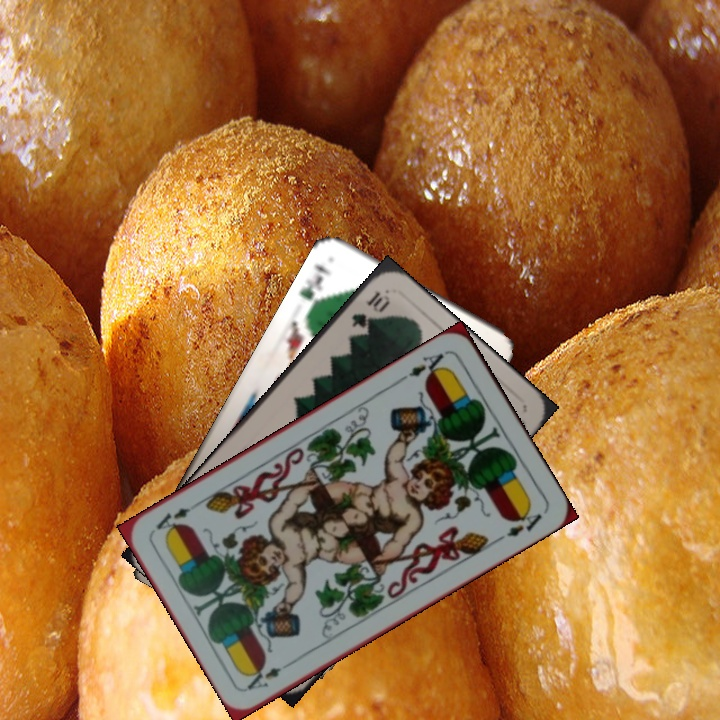EA: (242, 657, 297, 693), (396, 348, 449, 384)
G10: (347, 287, 393, 331)
GK: (295, 260, 334, 313)
